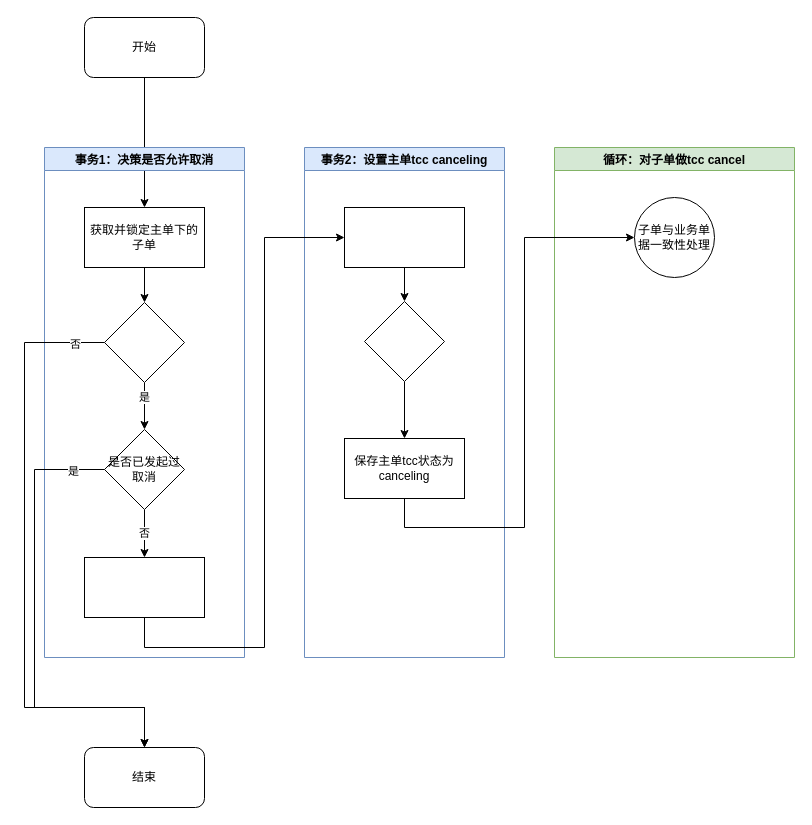
The diagram is 812 pixels wide and 825 high, and some of its shapes have lost their labels. The shapes that lost their labels are listed below. From the top down, each one's box as (x1, y1, x2, y2) in pixels, then its label:
(344, 206, 464, 268): 获取并锁定主单
(104, 302, 184, 382): 是否允许 cancel
(364, 300, 444, 382): 是否能覆盖为 canceling
(84, 556, 204, 618): 保存子单为cancelinng
